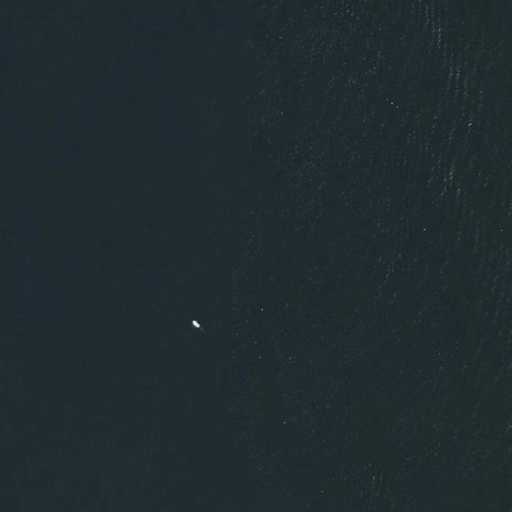ship: (189, 319, 203, 330)
